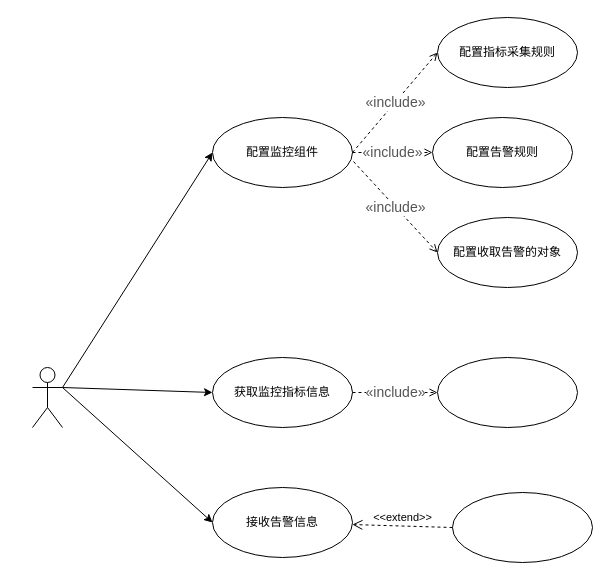
This 610x580 diagram has some shape labels left out. Each missing label, with the centre of its shape:
"查询告警详情" belongs at (522,527).
"查询监控指标信息" belongs at (507,392).
"集群管理员" belongs at (47,397).
